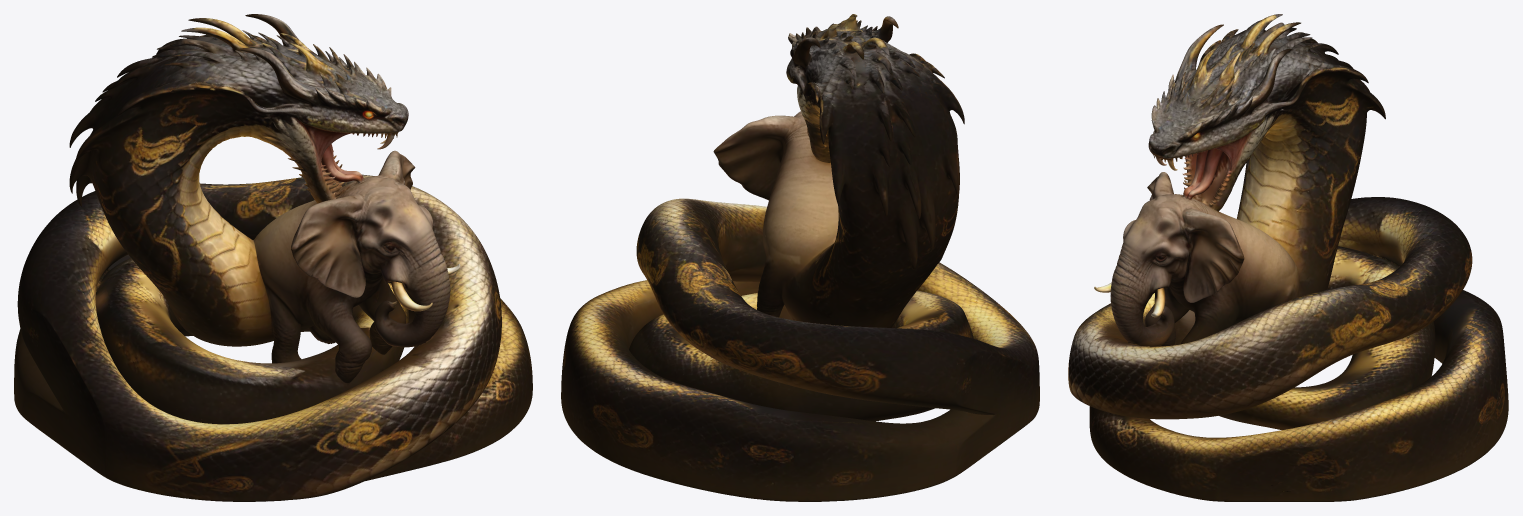
File: bai-she.glb
3 views of the same model, side by side, from view 1: azimuth 30°, elevation 25°; view 2: azimuth 150°, elevation 25°; view 3: azimuth 270°, elevation 25° (orthographic). The views are drawn at different scales.
Parts seen in each view (by area): view 1: node_0; view 2: node_0; view 3: node_0.
Boxes of the visible parts, left/top/right/bottom form: node_0: left=14, top=14, right=532, bottom=501; node_0: left=561, top=14, right=1039, bottom=501; node_0: left=1068, top=14, right=1508, bottom=501.
Size of the model in its own units: 0.8658 by 0.7721 by 0.8641.
1 material, 1 textured.
